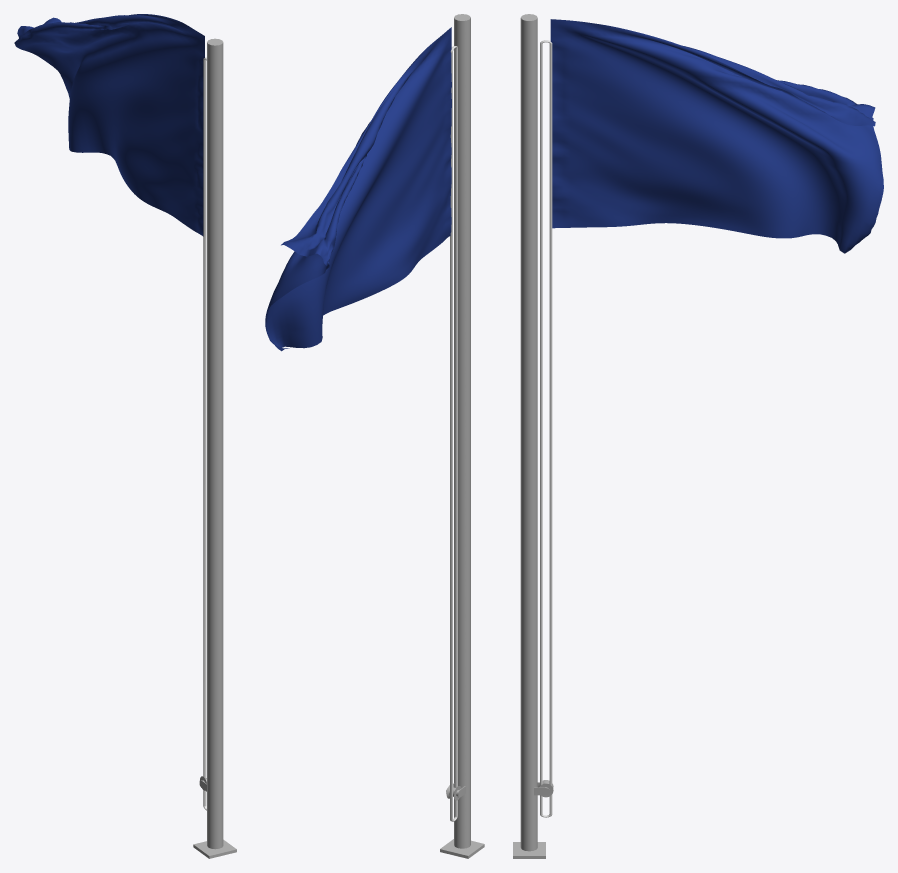
File: Blue flag.fbx
The picture shows the model from 3 angles, left to right: view 1: azimuth 30°, elevation 25°; view 2: azimuth 150°, elevation 25°; view 3: azimuth 270°, elevation 25°; orthographic projection. The views are drawn at different scales.
Parts seen in each view (by area): view 1: Плоскость.001, ТраекторияNurbs.001, Цилиндр.002, Куб.003; view 2: Плоскость.001, ТраекторияNurbs.001, Цилиндр.002, Куб.003; view 3: Плоскость.001, ТраекторияNurbs.001, Цилиндр.002.
Boxes of the visible parts, x1,y1,x2,y2 form: Плоскость.001: [14, 14, 204, 236]; ТраекторияNurbs.001: [207, 38, 223, 849]; Цилиндр.002: [203, 57, 206, 810]; Куб.003: [193, 839, 236, 858]; Плоскость.001: [265, 27, 451, 351]; ТраекторияNurbs.001: [454, 14, 470, 848]; Цилиндр.002: [450, 46, 457, 821]; Куб.003: [440, 839, 484, 858]; Плоскость.001: [550, 19, 883, 253]; ТраекторияNurbs.001: [520, 14, 537, 851]; Цилиндр.002: [540, 40, 552, 817].
Bounding box in the file's own units: 45.58 × 558 × 225.
